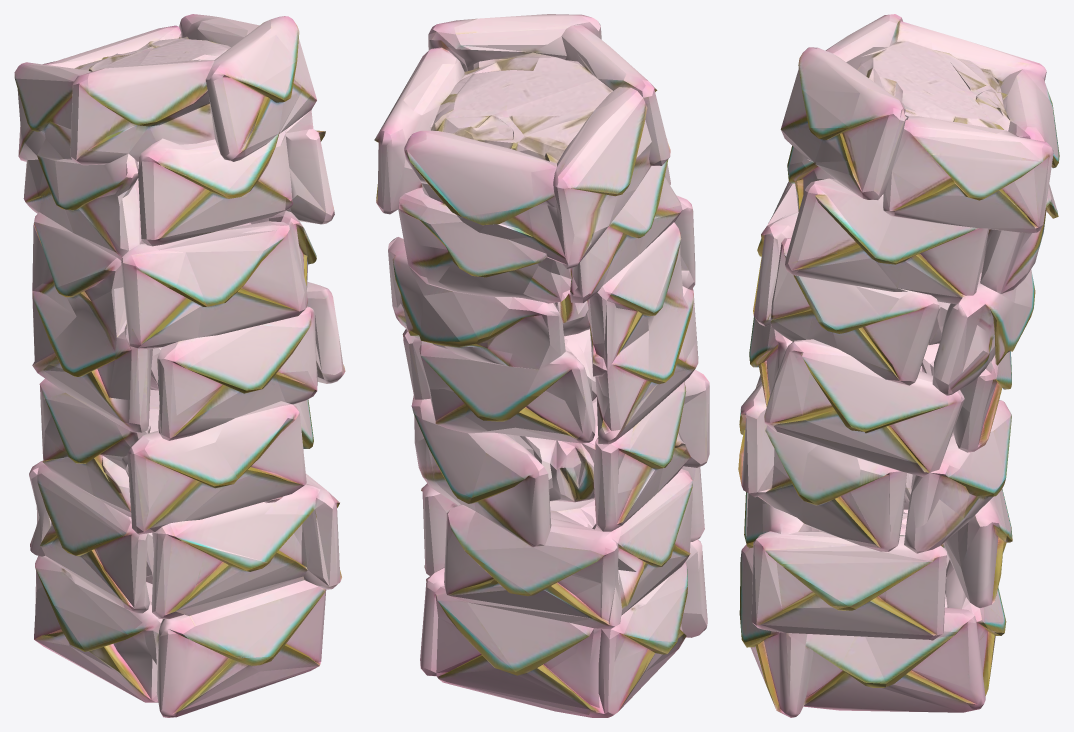
The model's file is spam-alley.glb.
The picture shows the model from 3 angles, left to right: view 1: azimuth 30°, elevation 25°; view 2: azimuth 150°, elevation 25°; view 3: azimuth 270°, elevation 25°; orthographic projection. The views are drawn at different scales.
Size of the model in its own units: 0.7847 by 1.9 by 0.8812.
1 material, 1 textured.
